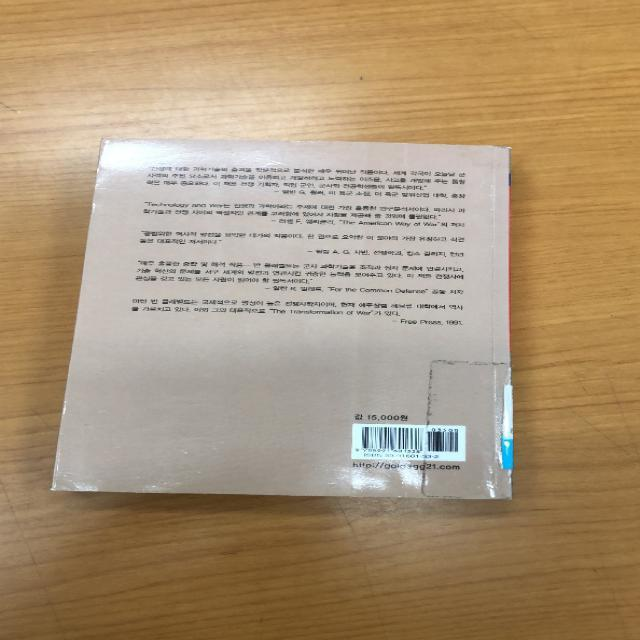Wornout: (45, 485, 96, 494), (289, 137, 321, 146), (485, 143, 517, 152)
